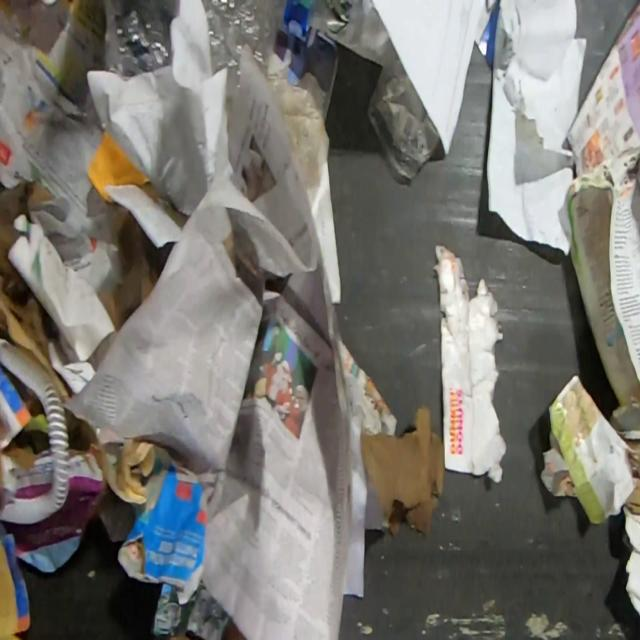cardboard: (432, 242, 508, 483), (0, 179, 71, 405), (0, 447, 107, 576), (95, 209, 160, 331), (0, 521, 33, 640), (622, 441, 640, 516)
rigid_plastic: (0, 336, 70, 527)
soft_plastic: (366, 35, 441, 182), (202, 0, 281, 111), (101, 0, 179, 79), (305, 0, 351, 39)
